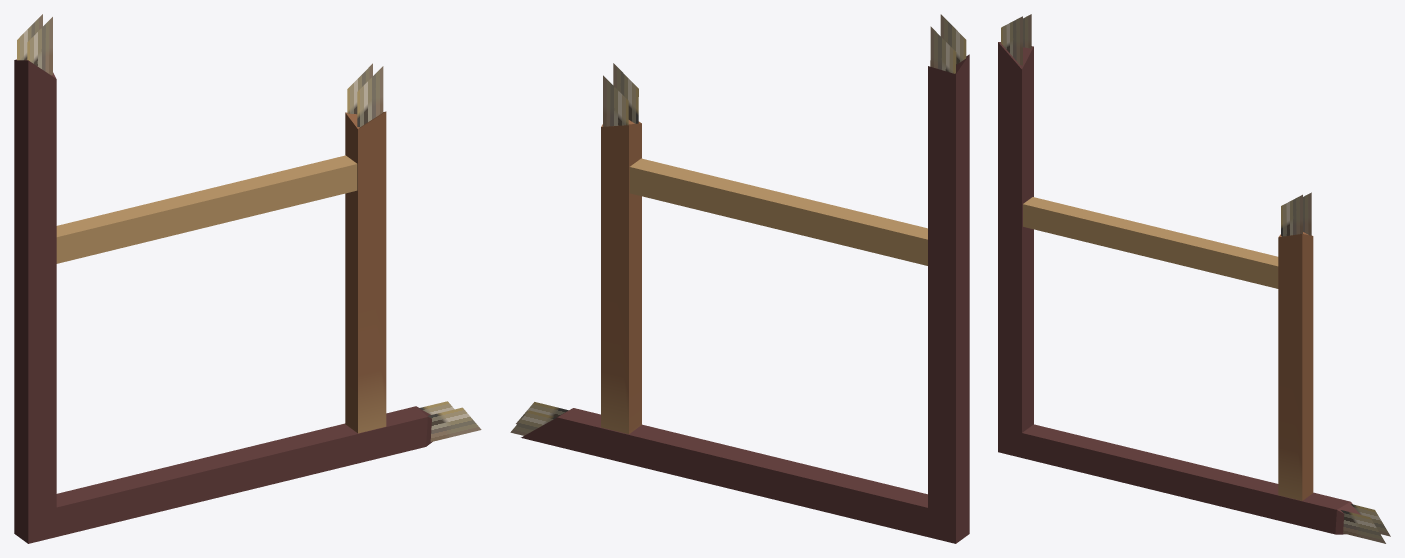
File: DBK_WinBig_Wood_End.fbx
3 renders of one model, left to right at view 1: azimuth 30°, elevation 25°; view 2: azimuth 150°, elevation 25°; view 3: azimuth 330°, elevation 25°, orthographic. The views are drawn at different scales.
Visible parts, largest first — view 1: DBK_WinBig_Wood_End; view 2: DBK_WinBig_Wood_End; view 3: DBK_WinBig_Wood_End.
Boxes of the visible parts, x1,y1,x2,y2 form: DBK_WinBig_Wood_End: (14, 14, 481, 543); DBK_WinBig_Wood_End: (510, 14, 969, 543); DBK_WinBig_Wood_End: (998, 14, 1390, 543).
Size of the model in its own units: 89.42 by 97.39 by 4.75.
